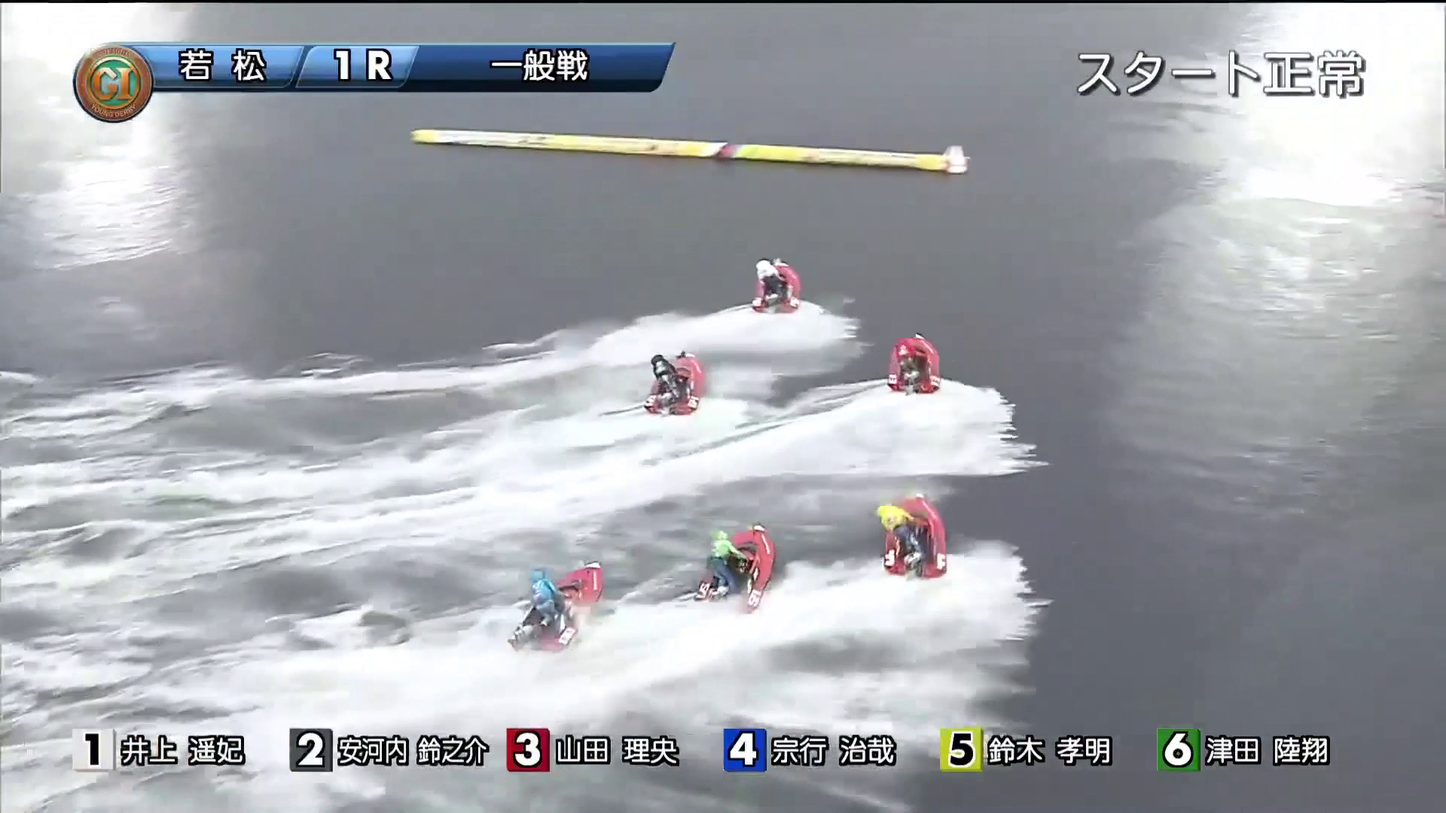１号艇: (730, 255, 800, 308)
２号艇: (620, 356, 749, 416)
３号艇: (856, 350, 954, 396)
４号艇: (651, 540, 785, 605)
５号艇: (460, 585, 584, 640)
６号艇: (868, 501, 967, 558)
